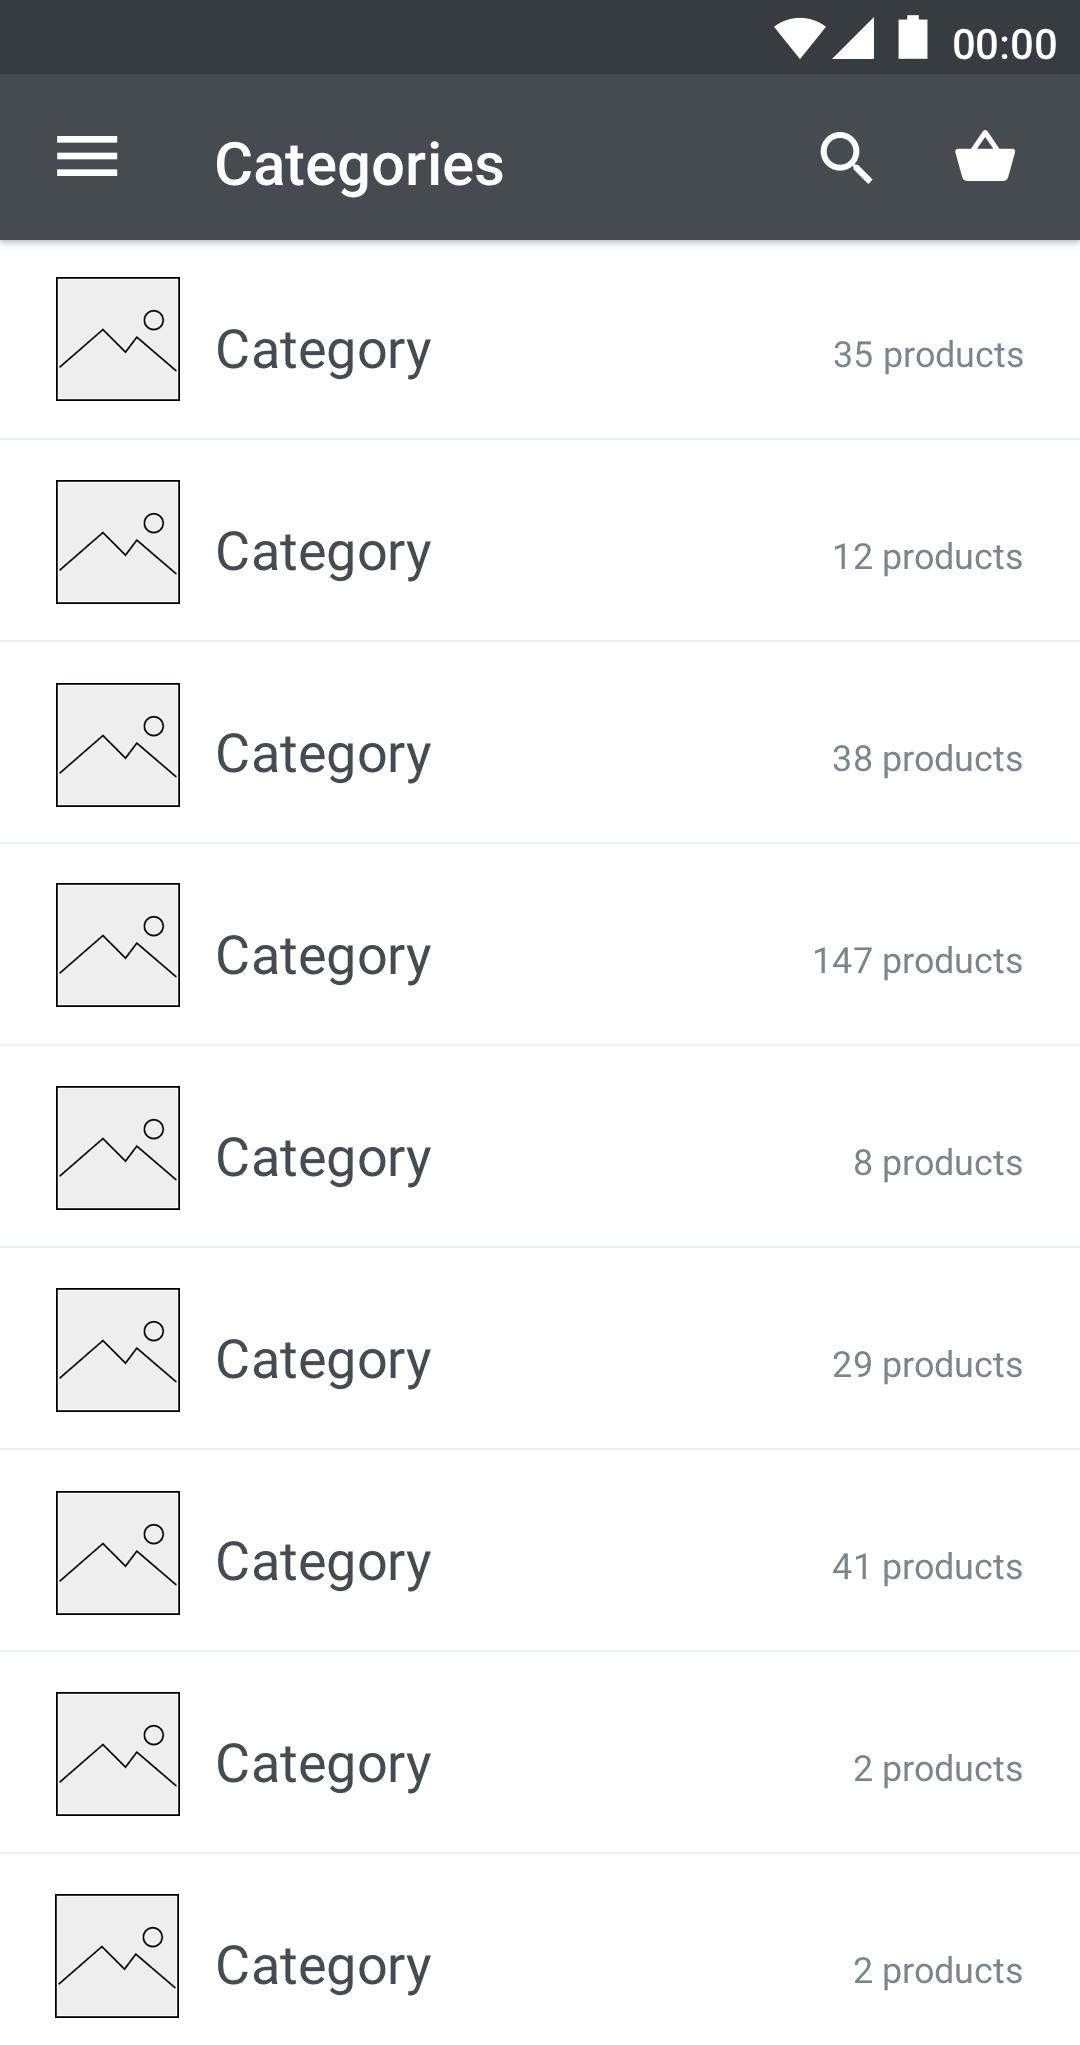Icon: (954, 128, 1016, 183), (819, 131, 875, 187), (55, 135, 120, 179)
Image: (55, 683, 182, 809), (55, 1288, 182, 1413), (55, 277, 181, 403), (55, 1490, 181, 1616), (55, 1894, 181, 2019), (55, 480, 181, 605), (57, 883, 182, 1008), (57, 1086, 182, 1210), (57, 1692, 182, 1816)
Text: (216, 139, 506, 200), (216, 1133, 433, 1189), (218, 1539, 433, 1595), (218, 530, 433, 584), (218, 933, 433, 987), (218, 1741, 433, 1795), (219, 1944, 433, 1998), (218, 329, 433, 381), (218, 732, 433, 784), (218, 1338, 433, 1390), (812, 944, 1023, 982), (833, 541, 1025, 579), (833, 743, 1025, 780), (831, 1550, 1023, 1588), (833, 1348, 1023, 1386), (833, 339, 1025, 376), (853, 1954, 1025, 1992), (853, 1753, 1025, 1789), (854, 1147, 1023, 1183)
UpperTaskBar: (1, 1, 1080, 74)
